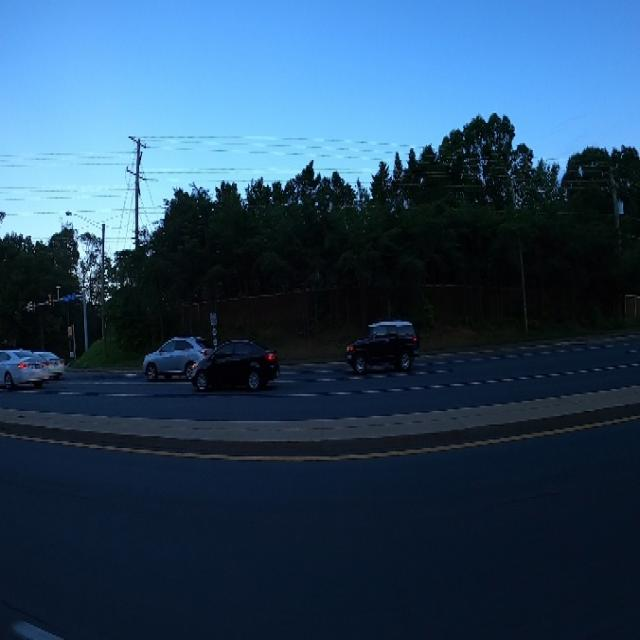car: (340, 308, 422, 384), (191, 335, 281, 399), (138, 332, 205, 386), (0, 337, 58, 389)
